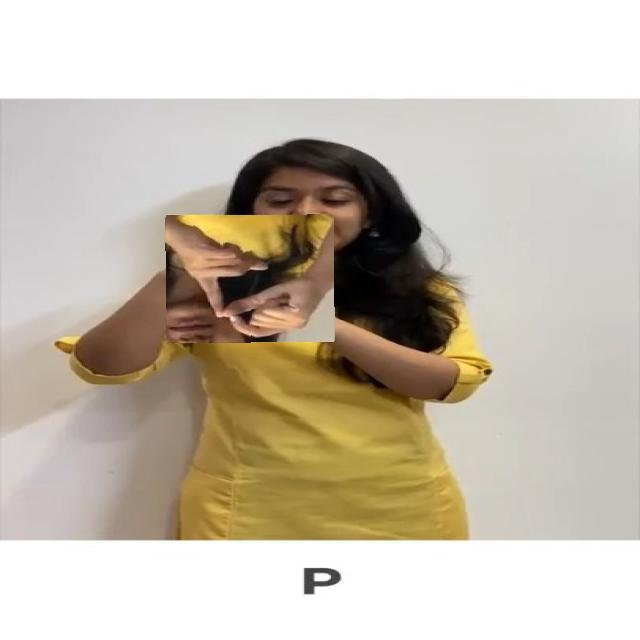P: (166, 215, 334, 342)
